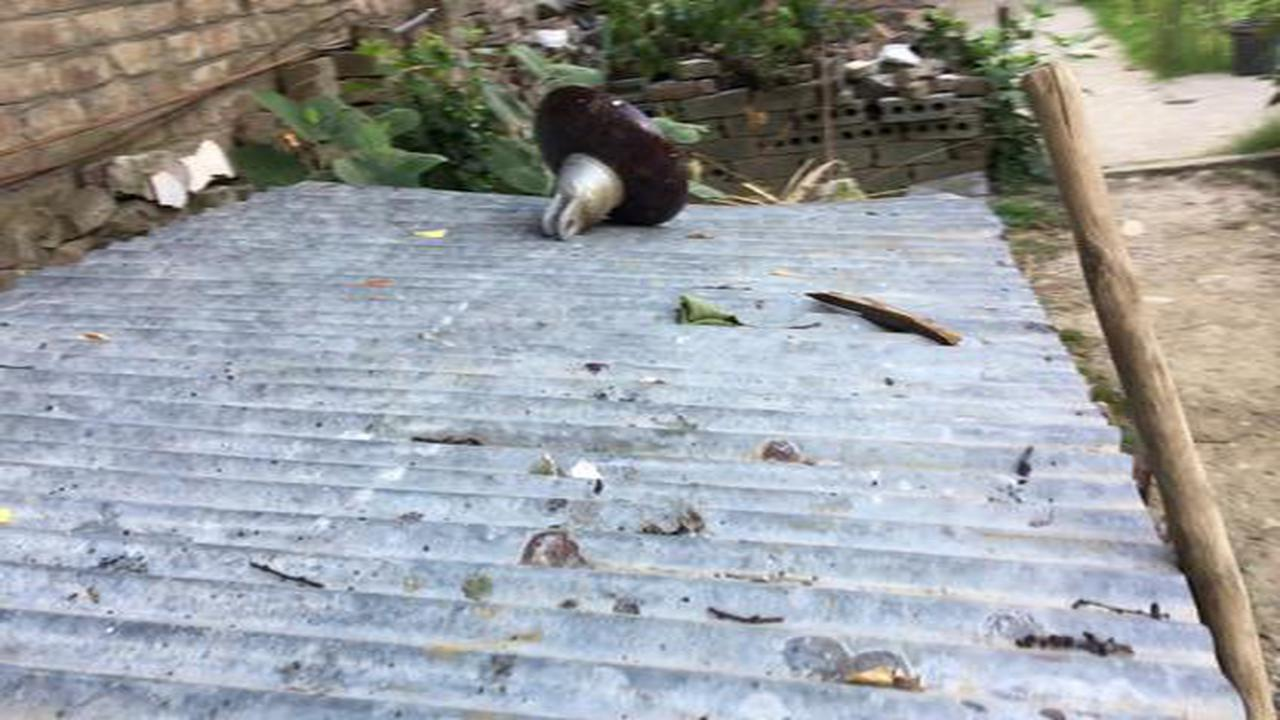insulator_disc: (523, 80, 701, 242)
